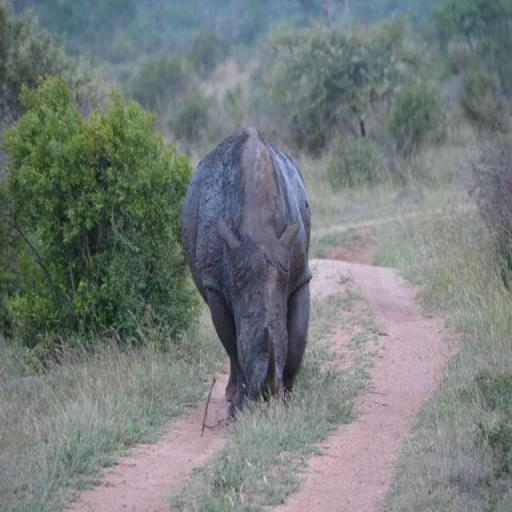Elephant: (180, 122, 313, 422)
